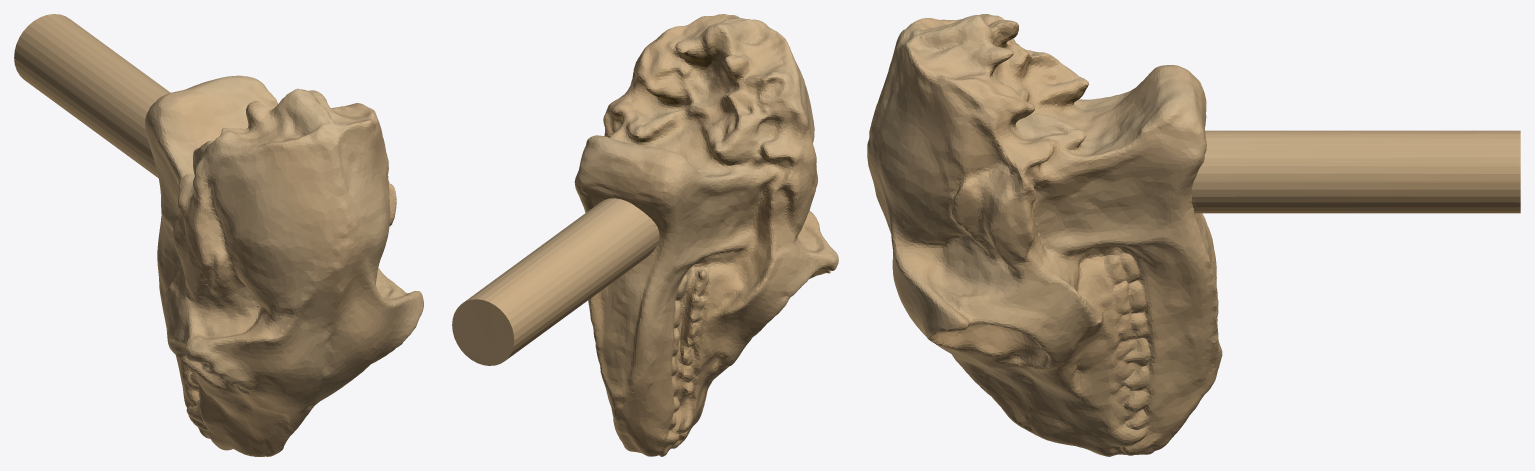
The model's file is smilodectis.glb.
3 views of the same model, side by side, from view 1: azimuth 30°, elevation 25°; view 2: azimuth 150°, elevation 25°; view 3: azimuth 270°, elevation 25° (orthographic). The views are drawn at different scales.
Size of the model in its own units: 10.61 by 17.5 by 23.69.
